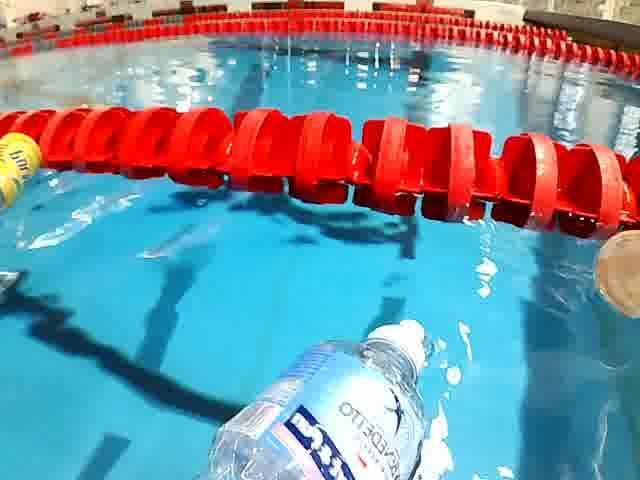Bottle: (178, 316, 446, 480)
Can: (0, 125, 49, 222)
